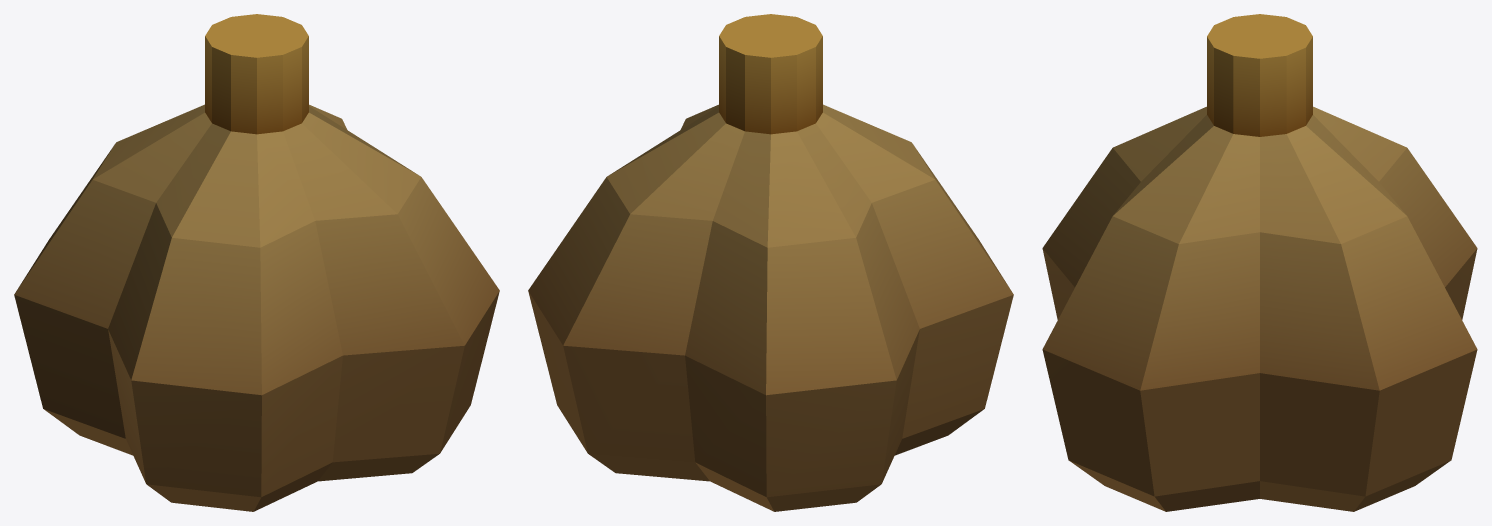
The model's file is lilia1.0.glb.
3 views of the same model, side by side, from view 1: azimuth 30°, elevation 25°; view 2: azimuth 150°, elevation 25°; view 3: azimuth 270°, elevation 25° (orthographic). The views are drawn at different scales.
Parts seen in each view (by area): view 1: lilia1.0; view 2: lilia1.0; view 3: lilia1.0.
Boxes of the visible parts, <box> form: lilia1.0: <box>14,14,499,511</box>; lilia1.0: <box>528,14,1013,511</box>; lilia1.0: <box>1042,14,1477,511</box>.
Size of the model in its own units: 0.1937 by 0.2014 by 0.1937.
